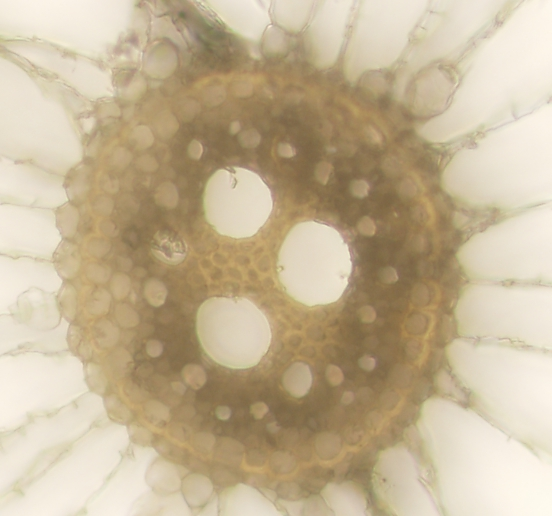lm: (276, 220, 352, 306), (195, 294, 271, 369), (202, 165, 273, 238)
